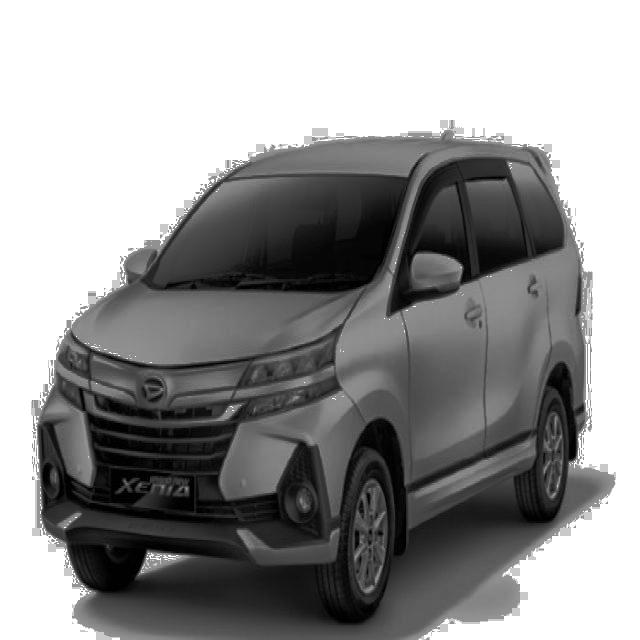Car: (36, 135, 600, 625)
